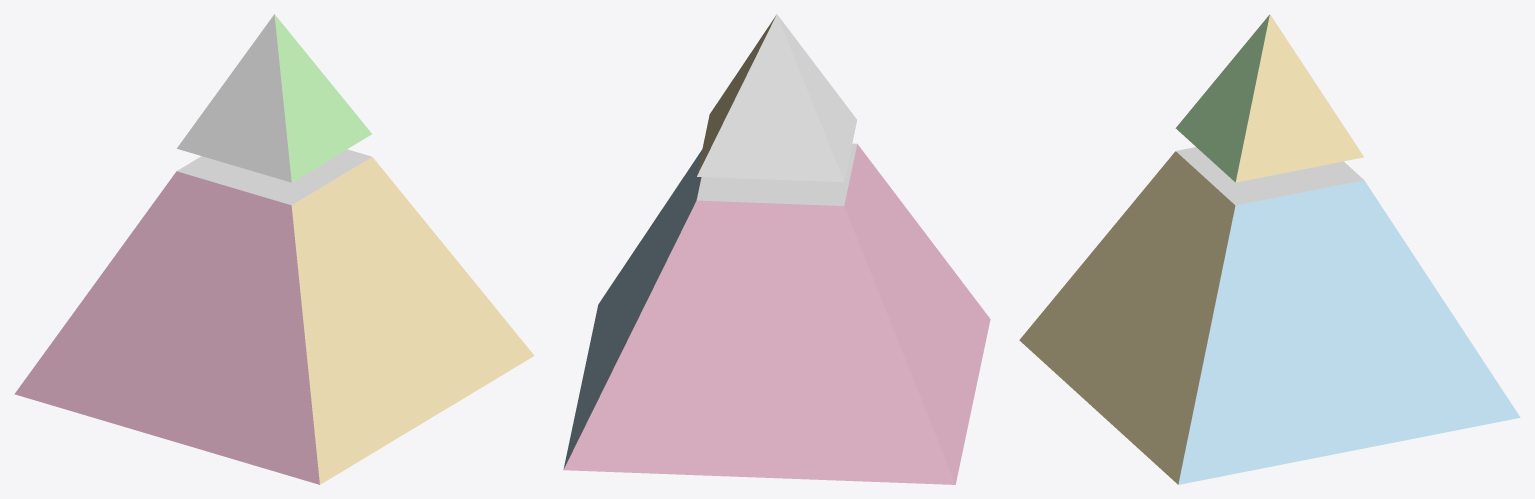
Rendered from daftPunk.glb.
3 views of the same model, side by side, from view 1: azimuth 30°, elevation 25°; view 2: azimuth 150°, elevation 25°; view 3: azimuth 270°, elevation 25° (orthographic). The views are drawn at different scales.
Visible parts, largest first — view 1: Pyramid_bas, Pyramid_haut; view 2: Pyramid_bas, Pyramid_haut; view 3: Pyramid_bas, Pyramid_haut.
Part boxes in pixels (x1,y1,x2,y2): Pyramid_bas: (14,149,534,484); Pyramid_haut: (177,14,371,182); Pyramid_bas: (563,143,990,484); Pyramid_haut: (697,14,856,182); Pyramid_bas: (1019,147,1520,484); Pyramid_haut: (1175,14,1363,182).
Bounding box in the file's own units: 39.85 × 32 × 39.85.
